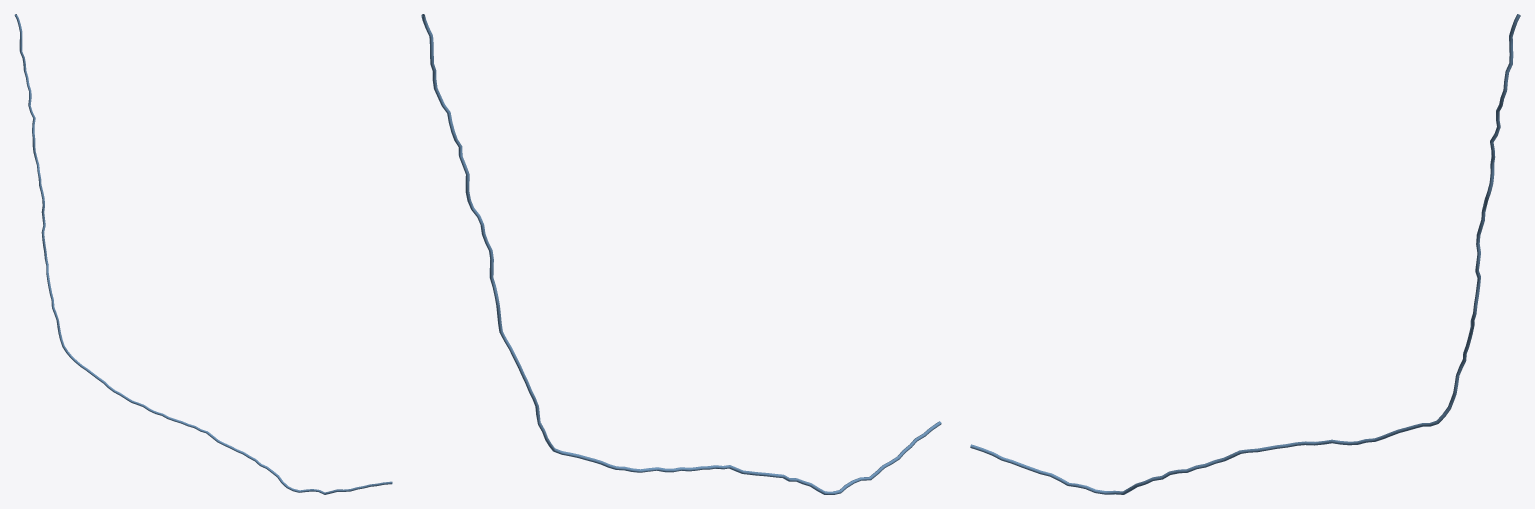
File: sweep184.fbx
3 renders of one model, left to right at view 1: azimuth 90°, elevation 25°; view 2: azimuth 150°, elevation 25°; view 3: azimuth 270°, elevation 25°, orthographic. The views are drawn at different scales.
Visible parts, largest first — view 1: sweep184; view 2: sweep184; view 3: sweep184.
Part boxes in pixels (bbox=[...]): sweep184: bbox=[14, 14, 392, 494]; sweep184: bbox=[421, 14, 941, 494]; sweep184: bbox=[970, 14, 1520, 494].
Size of the model in its own units: 1.54 by 3.33 by 2.82.
